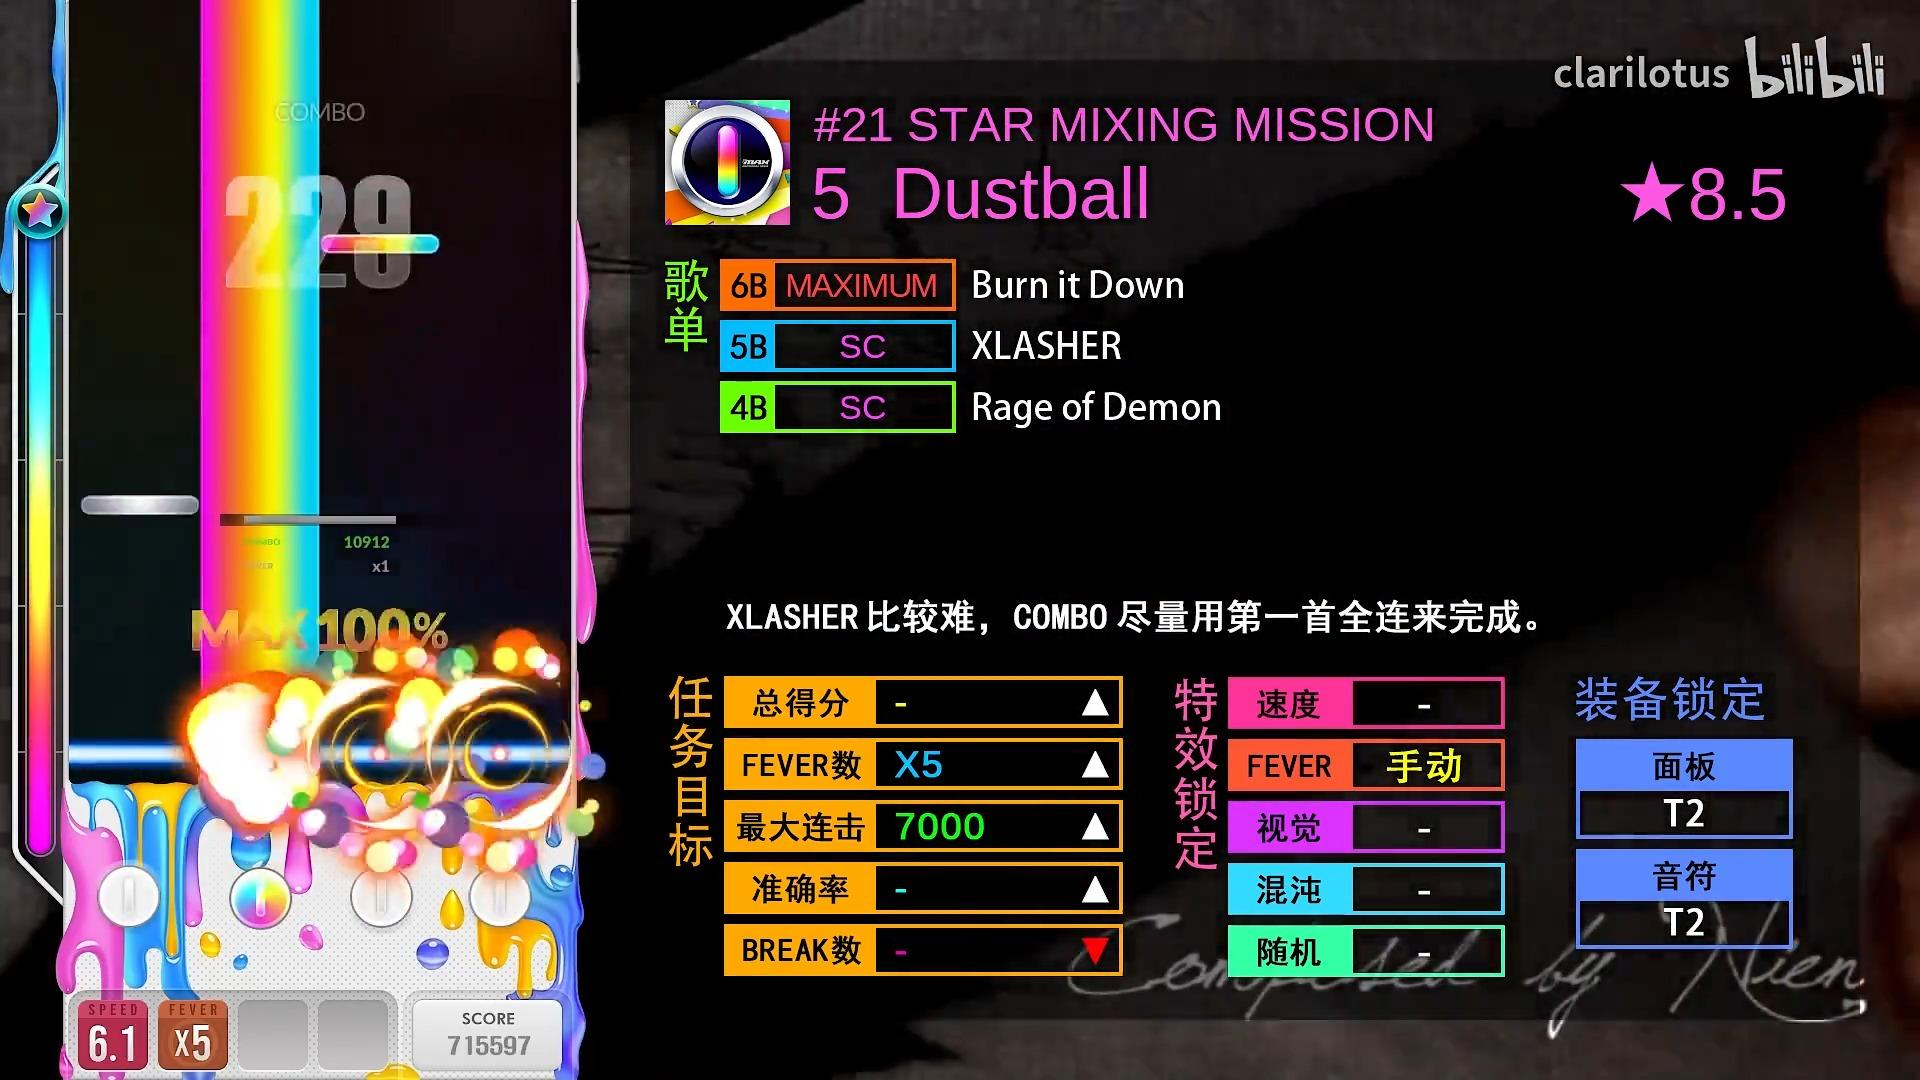note: (81, 495, 199, 515), (320, 234, 440, 253)
